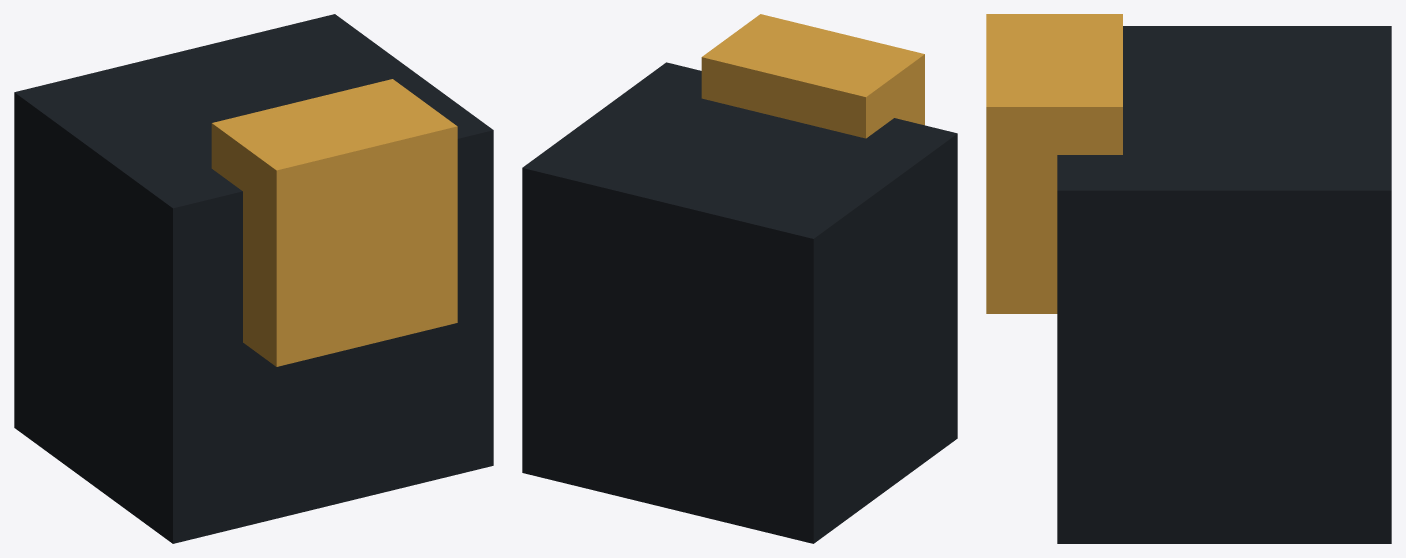
File: voyager_mag_boom.deployable_truss.magnetometer_02.glb
The picture shows the model from 3 angles, left to right: view 1: azimuth 30°, elevation 25°; view 2: azimuth 150°, elevation 25°; view 3: azimuth 270°, elevation 25°; orthographic projection. The views are drawn at different scales.
Visible parts, largest first — view 1: voyager_mag_boom.deployable_truss.magnetometer_02.mesh_Carbo, voyager_mag_boom.deployable_truss.magnetometer_02.mesh_Gold_; view 2: voyager_mag_boom.deployable_truss.magnetometer_02.mesh_Carbo, voyager_mag_boom.deployable_truss.magnetometer_02.mesh_Gold_; view 3: voyager_mag_boom.deployable_truss.magnetometer_02.mesh_Carbo, voyager_mag_boom.deployable_truss.magnetometer_02.mesh_Gold_.
Boxes of the visible parts, x1,y1,x2,y2 form: voyager_mag_boom.deployable_truss.magnetometer_02.mesh_Carbo: (14, 14, 493, 543); voyager_mag_boom.deployable_truss.magnetometer_02.mesh_Gold_: (211, 79, 457, 366); voyager_mag_boom.deployable_truss.magnetometer_02.mesh_Carbo: (522, 62, 957, 543); voyager_mag_boom.deployable_truss.magnetometer_02.mesh_Gold_: (701, 14, 924, 138); voyager_mag_boom.deployable_truss.magnetometer_02.mesh_Carbo: (1057, 26, 1391, 543); voyager_mag_boom.deployable_truss.magnetometer_02.mesh_Gold_: (986, 14, 1122, 313).
Size of the model in its own units: 0.14 by 0.159 by 0.1455.
